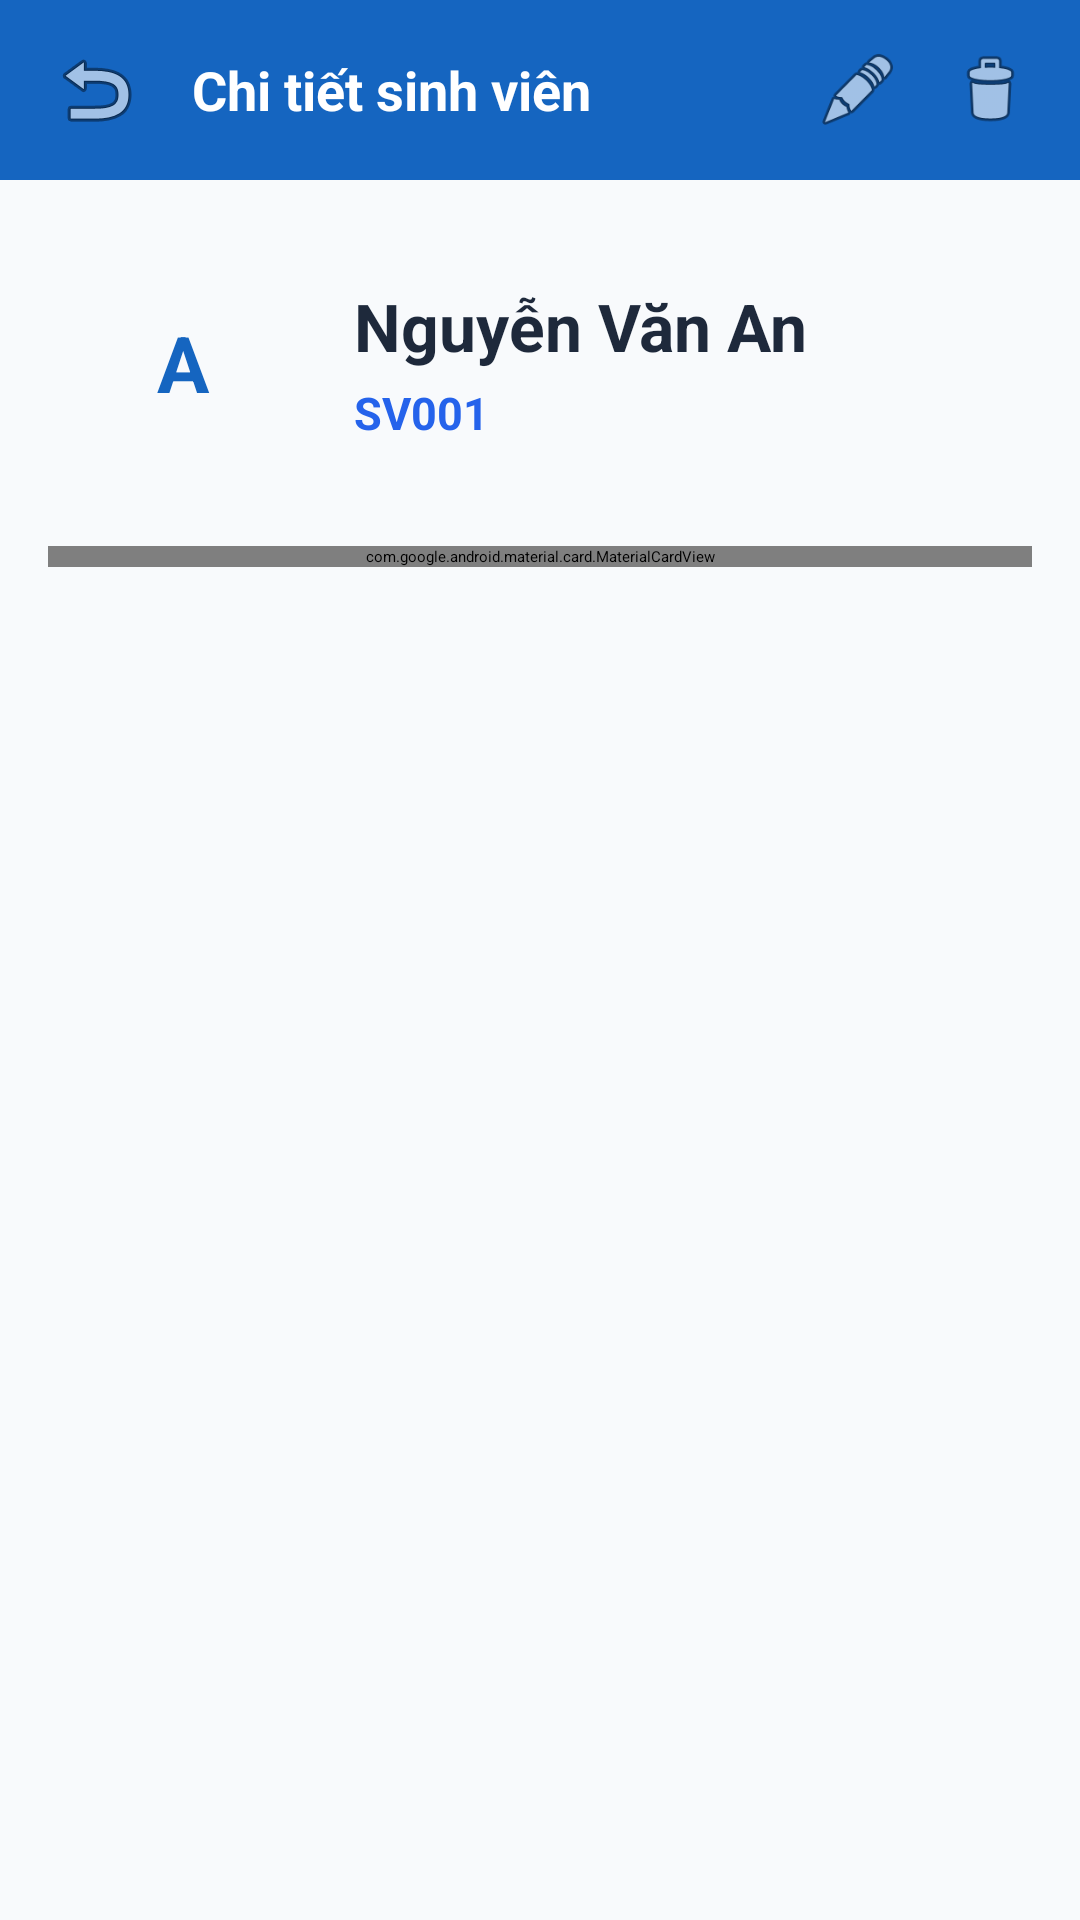

Named icons in this screenshot (1080 × 1920) and their centers, [x,y]:
Back: [97,90]
delete: [990,89]
edit: [857,89]
